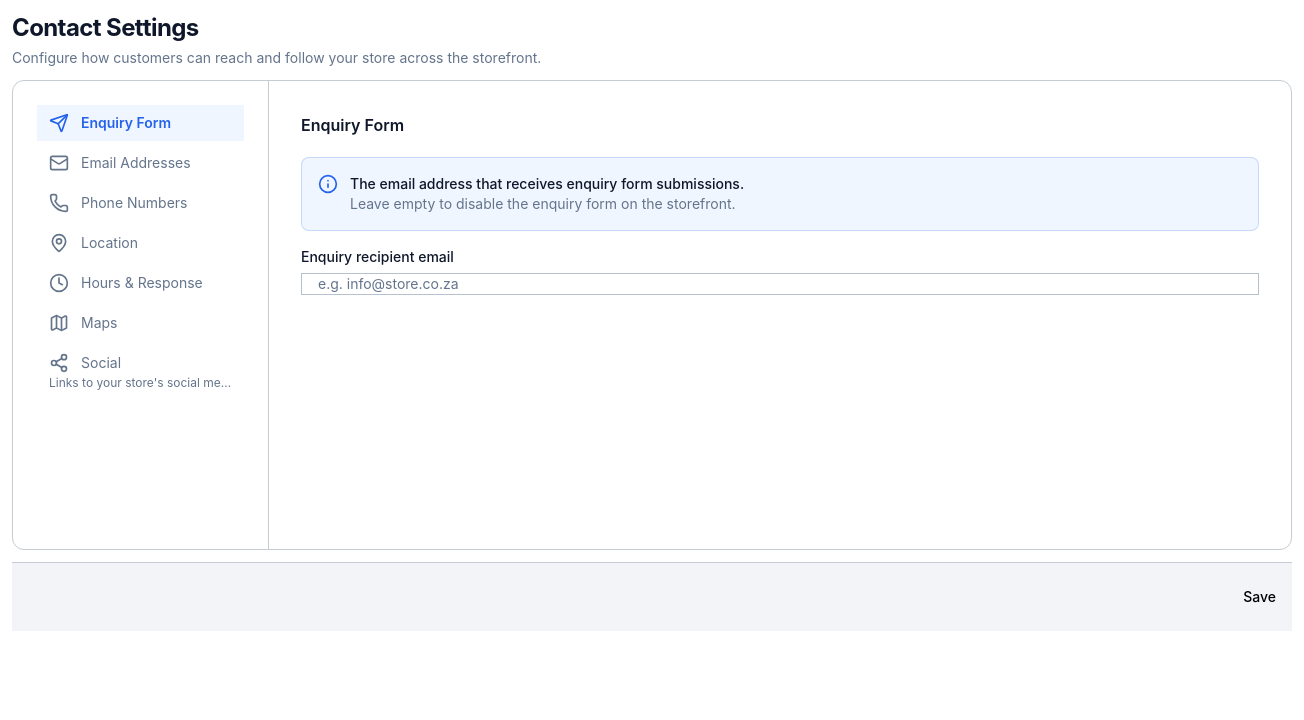
Test case: ContactEditorPage › Social section › shows an empty state when there are no social links
Check: the heading "Contact Settings" is shown, box [12,13,199,42]
Step 1. Click the tab "Social" → (140, 372), box [37,345,244,399]
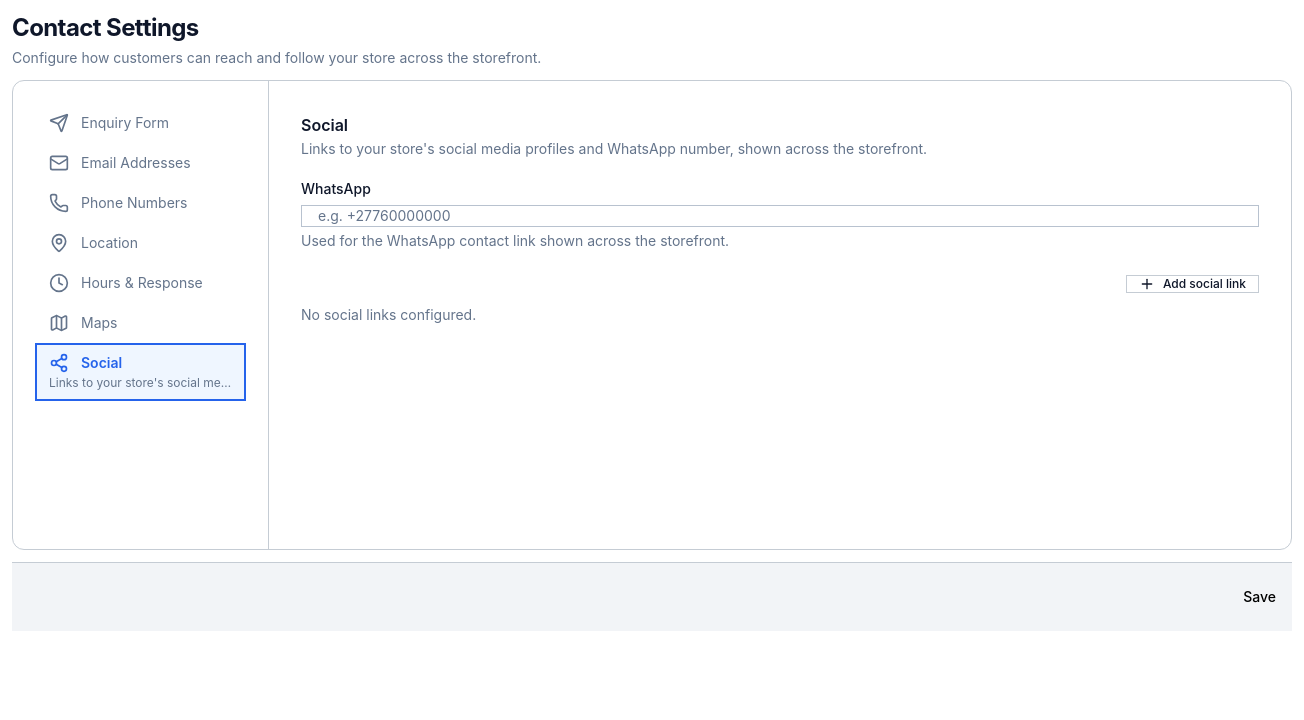
Check: the text "No social links configured." is shown, box [301,306,476,323]
